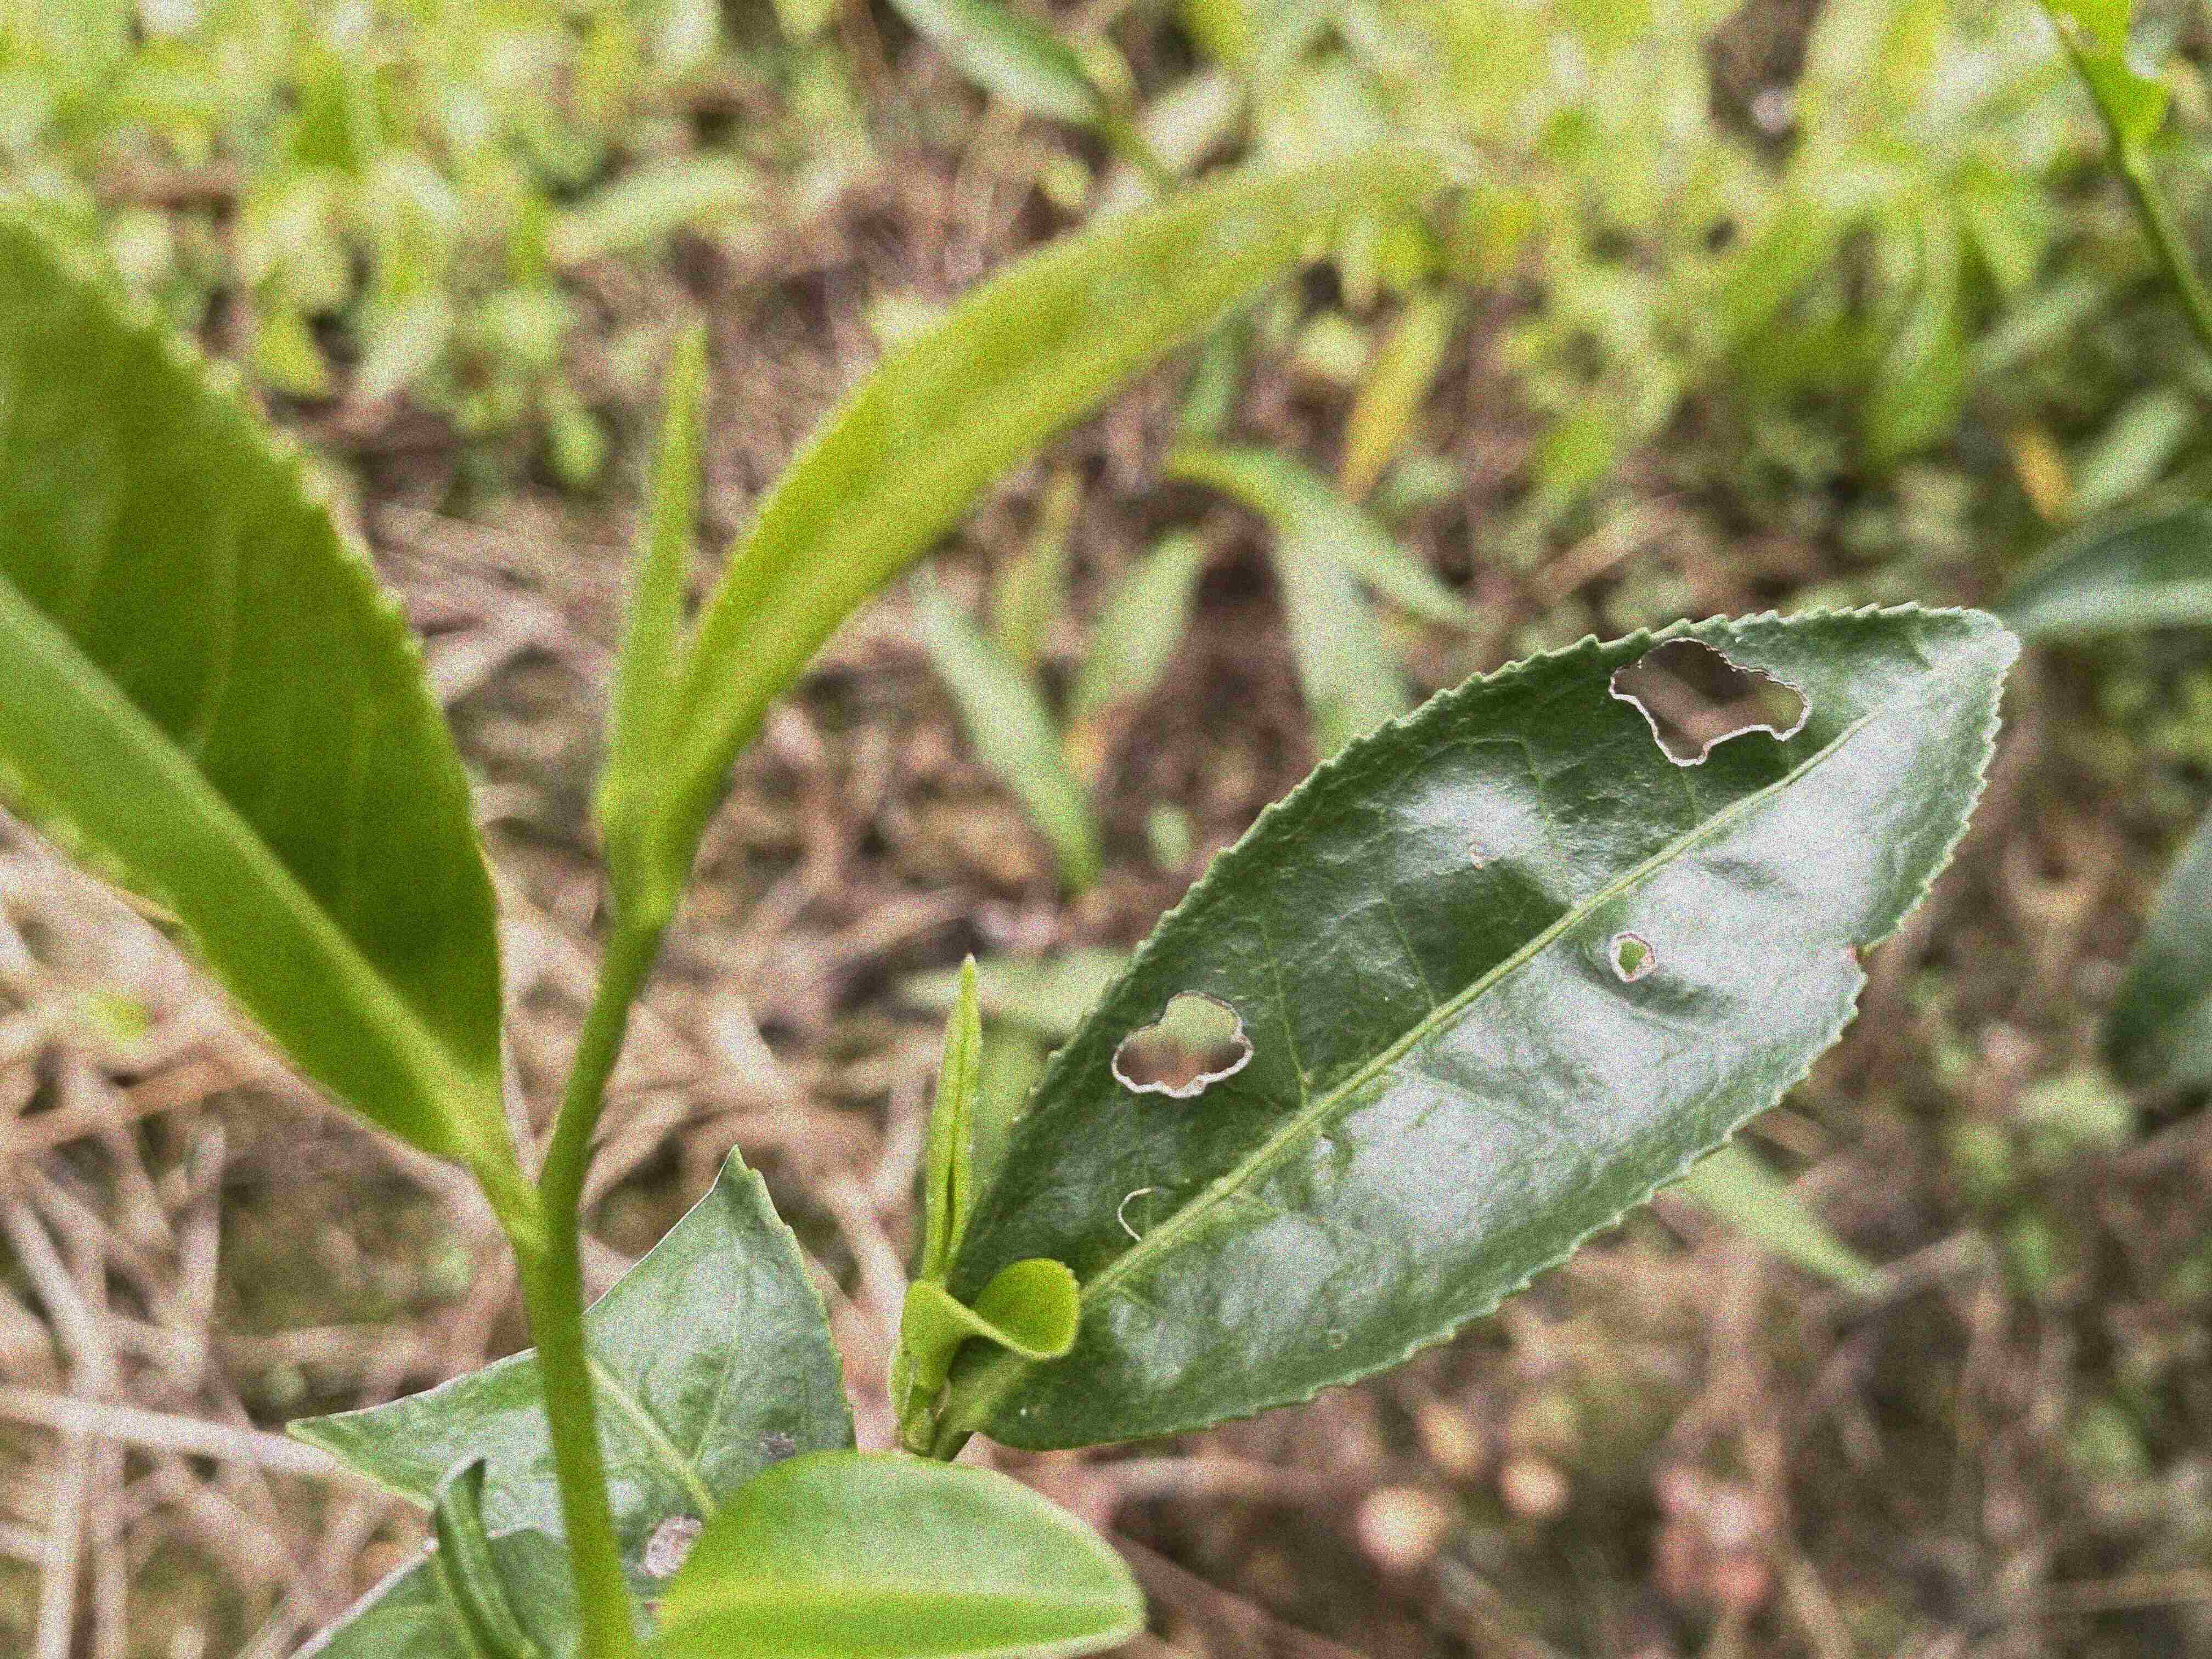chihuo_high: (948, 598, 2022, 1453), (284, 1140, 860, 1593)
